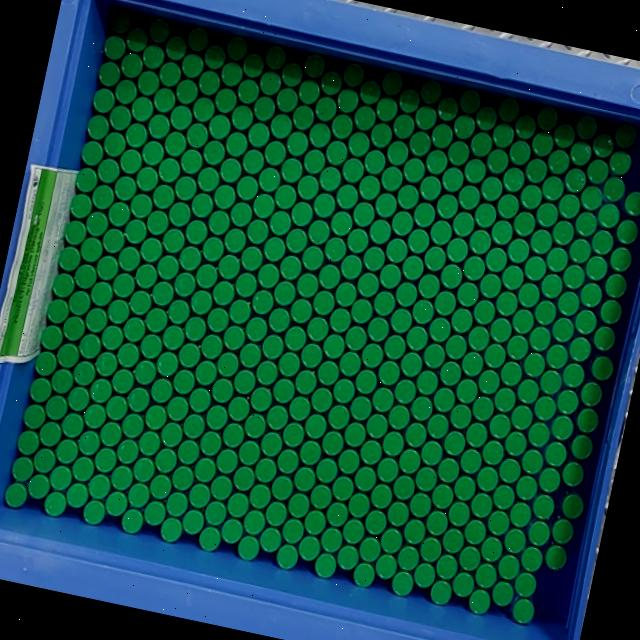vials: (86, 114, 109, 140), (4, 482, 27, 508), (27, 473, 50, 499), (43, 491, 66, 517), (61, 412, 84, 438), (83, 403, 106, 429), (94, 447, 117, 473), (50, 368, 73, 394), (62, 315, 85, 341), (116, 342, 139, 368), (144, 404, 167, 430), (104, 491, 127, 517), (107, 201, 130, 227), (91, 184, 114, 210), (194, 360, 217, 386), (171, 465, 194, 491), (159, 516, 182, 542), (261, 334, 284, 360), (243, 413, 266, 439), (226, 492, 249, 518), (328, 307, 351, 333), (92, 88, 115, 113), (40, 325, 63, 350), (34, 351, 57, 376), (49, 465, 72, 490), (55, 439, 78, 464), (82, 500, 105, 525), (105, 395, 128, 420), (89, 378, 112, 403), (94, 351, 117, 376), (78, 333, 101, 358), (111, 368, 134, 393), (110, 465, 133, 490), (143, 501, 166, 526), (172, 369, 195, 394), (139, 237, 162, 262), (162, 228, 185, 253), (124, 219, 147, 244), (157, 157, 180, 182), (108, 105, 131, 130), (175, 79, 198, 104), (114, 79, 137, 104), (120, 53, 143, 78), (168, 202, 191, 227), (217, 254, 240, 279), (206, 307, 229, 332), (222, 325, 245, 350), (228, 299, 251, 324), (182, 413, 205, 438), (255, 360, 278, 385), (249, 386, 272, 411), (232, 466, 255, 491), (220, 518, 243, 543), (341, 158, 364, 183), (310, 387, 333, 412), (331, 476, 354, 501), (349, 395, 372, 420), (366, 317, 389, 342), (58, 245, 80, 271), (52, 272, 74, 298), (29, 377, 51, 403), (11, 456, 33, 482), (72, 456, 94, 482), (88, 474, 110, 500), (57, 342, 79, 368), (68, 290, 90, 316), (123, 316, 145, 342), (145, 307, 167, 333), (135, 263, 157, 289), (127, 482, 149, 508), (121, 508, 143, 534), (166, 396, 188, 422), (184, 316, 206, 342), (195, 263, 217, 289), (114, 175, 136, 201), (120, 148, 142, 174), (125, 122, 147, 148), (192, 96, 214, 122), (186, 122, 208, 148), (202, 236, 224, 262), (219, 157, 241, 183), (270, 113, 292, 139), (182, 509, 204, 535), (216, 448, 238, 474), (297, 174, 319, 200), (301, 245, 323, 271), (259, 527, 281, 553), (294, 369, 316, 395), (347, 131, 369, 157), (370, 122, 392, 148), (358, 175, 380, 201), (293, 466, 315, 492), (276, 544, 298, 570), (298, 535, 320, 561), (304, 509, 326, 535), (337, 448, 359, 474), (327, 404, 349, 430), (373, 290, 395, 316), (447, 140, 469, 166), (419, 175, 441, 201), (431, 123, 453, 149), (470, 131, 492, 157), (497, 97, 519, 123), (514, 114, 536, 140), (407, 228, 429, 254), (463, 255, 485, 281), (406, 325, 428, 351), (400, 351, 422, 377), (360, 439, 382, 465), (320, 527, 342, 553), (314, 552, 336, 578), (364, 509, 386, 535), (398, 448, 420, 474), (178, 246, 201, 270), (103, 35, 125, 60), (98, 61, 120, 86), (81, 140, 103, 165), (64, 220, 86, 245), (46, 298, 68, 323), (23, 403, 45, 428), (17, 430, 39, 455), (66, 483, 88, 508), (33, 448, 55, 473), (39, 421, 61, 446), (45, 395, 67, 420), (67, 386, 89, 411), (78, 430, 100, 455), (99, 421, 121, 446), (73, 360, 95, 385), (85, 308, 107, 333), (101, 325, 123, 350), (107, 299, 129, 324), (90, 281, 112, 306), (127, 387, 149, 412), (134, 360, 156, 385), (140, 334, 162, 359), (129, 290, 151, 315), (112, 273, 134, 298), (96, 255, 118, 280), (80, 237, 102, 262), (102, 228, 124, 253), (118, 246, 140, 271), (167, 299, 189, 324), (162, 325, 184, 350), (156, 351, 178, 376), (150, 378, 172, 403), (121, 413, 143, 438), (116, 439, 138, 464), (138, 431, 160, 456), (133, 457, 155, 482), (149, 474, 171, 499), (155, 448, 177, 473), (160, 422, 182, 447), (178, 342, 200, 367), (190, 290, 212, 315), (146, 210, 168, 235), (86, 211, 108, 236), (130, 193, 152, 218), (97, 158, 119, 183), (136, 166, 158, 191), (142, 140, 164, 165), (164, 131, 186, 156), (103, 132, 125, 157), (131, 96, 153, 121), (153, 88, 175, 113), (170, 105, 192, 130), (159, 62, 181, 87), (137, 70, 159, 95), (142, 45, 164, 70), (181, 53, 203, 78), (165, 35, 187, 60), (148, 18, 170, 43), (220, 62, 242, 87), (198, 70, 220, 95), (214, 87, 236, 112), (208, 114, 230, 139), (180, 149, 202, 174), (203, 140, 225, 165), (197, 167, 219, 192), (191, 193, 213, 218), (208, 210, 230, 235), (213, 184, 235, 209), (225, 132, 247, 157), (237, 79, 259, 104), (259, 70, 281, 95), (276, 87, 298, 112), (236, 175, 258, 200), (258, 167, 280, 192), (230, 201, 252, 226), (224, 228, 246, 253), (246, 219, 268, 244), (200, 334, 222, 359), (216, 352, 238, 377), (211, 378, 233, 403), (188, 387, 210, 412), (177, 439, 199, 464), (199, 431, 221, 456), (205, 405, 227, 430), (194, 457, 216, 482), (166, 492, 188, 517), (188, 483, 210, 508), (198, 526, 220, 551), (204, 500, 226, 525), (210, 475, 232, 500), (222, 422, 244, 447), (227, 396, 249, 421), (233, 369, 255, 394), (239, 342, 261, 367), (251, 289, 273, 314), (257, 263, 279, 288), (263, 237, 285, 262), (274, 184, 296, 209), (280, 158, 302, 183), (286, 131, 308, 156), (292, 105, 314, 130), (303, 149, 325, 174), (290, 201, 312, 226), (285, 228, 307, 253), (273, 280, 295, 305), (238, 440, 260, 465), (331, 114, 353, 139), (325, 140, 347, 165), (313, 192, 335, 217), (308, 219, 330, 244), (296, 272, 318, 297), (284, 326, 306, 351), (272, 378, 294, 403), (266, 405, 288, 430), (260, 431, 282, 456), (254, 457, 276, 482), (243, 510, 265, 535), (237, 535, 259, 560), (265, 501, 287, 526), (271, 475, 293, 500), (282, 422, 304, 447), (288, 396, 310, 421), (300, 343, 322, 368), (306, 316, 328, 341), (312, 290, 334, 315), (290, 298, 312, 323), (318, 264, 340, 289), (324, 237, 346, 262), (336, 184, 358, 209), (342, 62, 364, 87), (354, 105, 376, 130), (352, 202, 374, 227), (346, 228, 368, 253), (340, 254, 362, 279), (317, 360, 339, 385), (304, 414, 326, 439), (299, 440, 321, 465), (287, 493, 309, 518), (281, 518, 303, 543), (326, 502, 348, 527), (321, 431, 343, 456), (355, 369, 377, 394), (339, 351, 361, 376), (344, 325, 366, 350), (350, 298, 372, 323), (357, 272, 379, 297), (379, 264, 401, 289), (363, 246, 385, 271), (369, 219, 391, 244), (391, 210, 413, 235), (374, 193, 396, 218), (381, 166, 403, 191), (409, 131, 431, 156), (386, 140, 408, 165), (398, 88, 420, 113), (453, 114, 475, 139), (425, 149, 447, 174), (475, 106, 497, 131), (464, 158, 486, 183), (492, 123, 514, 148), (502, 167, 524, 192), (480, 176, 502, 201), (458, 185, 480, 210), (436, 194, 458, 219), (413, 202, 435, 227), (429, 220, 451, 245), (424, 246, 446, 271), (401, 255, 423, 280), (395, 281, 417, 306), (434, 291, 456, 316), (452, 211, 474, 236), (474, 202, 496, 227), (469, 229, 491, 254), (456, 282, 478, 307), (390, 308, 412, 333), (377, 360, 399, 385), (354, 466, 376, 491), (336, 545, 358, 570), (342, 519, 364, 544), (370, 483, 392, 508), (376, 457, 398, 482), (382, 431, 404, 456), (410, 396, 432, 421), (404, 422, 426, 447), (76, 167, 97, 193), (74, 264, 96, 288), (148, 114, 170, 138), (187, 27, 209, 51), (125, 28, 147, 52), (174, 176, 196, 200), (185, 220, 207, 244), (242, 53, 264, 77), (253, 96, 275, 120), (264, 141, 286, 165), (240, 246, 262, 270), (245, 317, 267, 341), (269, 211, 291, 235), (268, 308, 290, 332), (303, 54, 325, 78), (320, 71, 342, 95), (278, 352, 300, 376), (330, 211, 352, 235), (381, 71, 403, 95), (361, 343, 383, 367), (403, 158, 425, 182), (414, 105, 436, 129), (420, 80, 442, 104), (486, 149, 508, 173), (440, 264, 462, 288), (446, 238, 468, 262), (388, 405, 410, 429), (110, 8, 131, 33), (70, 193, 91, 218), (152, 281, 173, 306), (157, 254, 178, 279), (153, 184, 174, 209), (226, 36, 247, 61), (265, 45, 286, 70), (248, 122, 269, 147), (242, 149, 263, 174), (253, 193, 274, 218), (235, 272, 256, 297), (280, 255, 301, 280), (315, 97, 336, 122), (319, 166, 340, 191), (249, 484, 270, 509), (337, 88, 358, 113), (376, 96, 397, 121), (364, 149, 385, 174), (335, 282, 356, 307), (323, 334, 344, 359), (310, 484, 331, 509), (316, 458, 337, 483), (344, 422, 365, 447), (333, 378, 354, 403), (397, 184, 418, 209), (393, 113, 414, 138), (437, 96, 458, 121), (459, 89, 480, 114), (442, 167, 463, 192), (509, 140, 530, 165), (451, 308, 472, 333), (412, 299, 433, 324), (429, 317, 450, 342), (384, 335, 405, 360), (372, 387, 393, 412), (394, 379, 415, 404), (366, 413, 387, 438), (348, 492, 369, 517), (174, 272, 195, 296), (204, 45, 225, 69), (231, 105, 252, 129), (281, 63, 302, 87), (213, 281, 234, 305), (309, 123, 330, 147), (298, 80, 319, 104), (277, 449, 298, 473), (359, 80, 380, 104), (386, 238, 407, 262), (418, 274, 439, 298)
